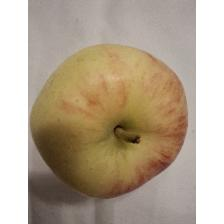Apfel: (28, 41, 192, 200)
